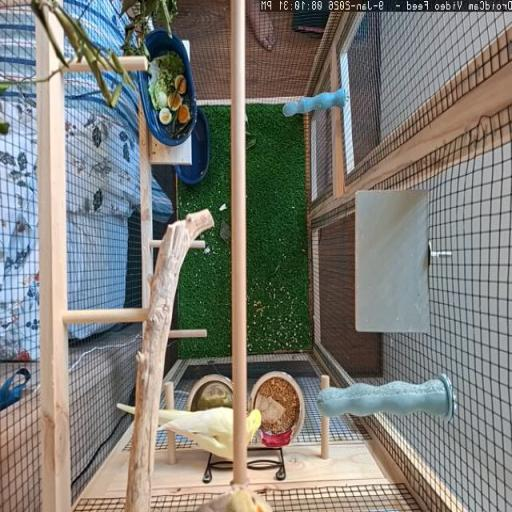bebedero: (186, 374, 232, 409)
comedero: (250, 371, 304, 446)
ninfa: (159, 406, 234, 460), (198, 487, 272, 511), (238, 410, 262, 447)
